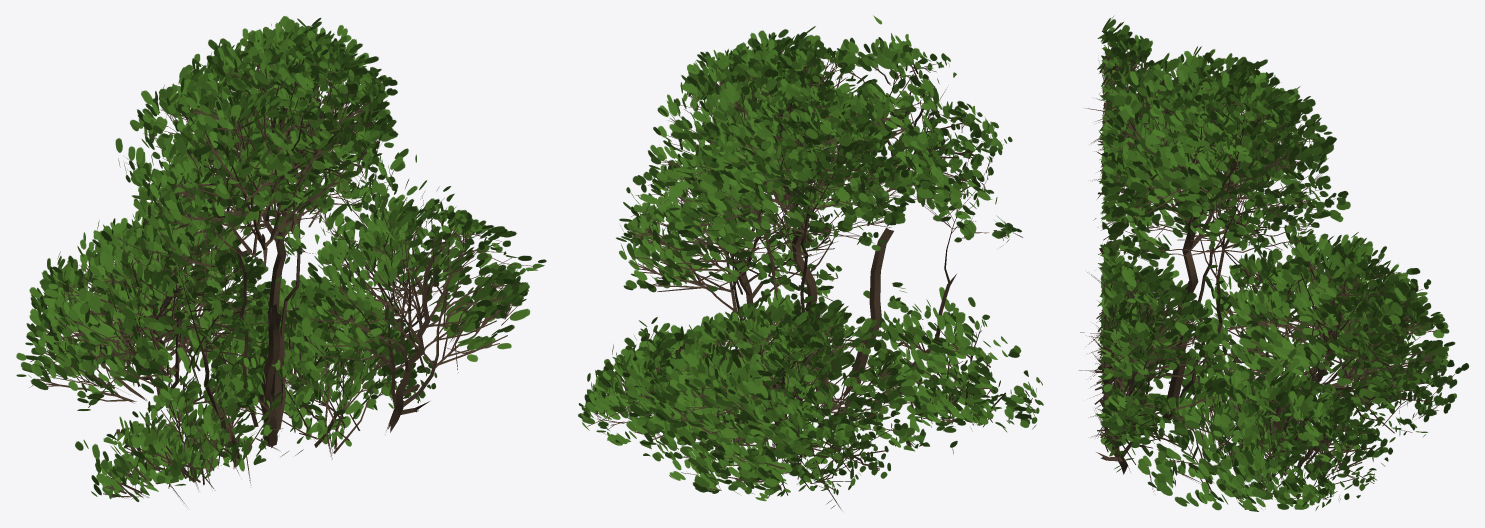
3 renders of one model, left to right at view 1: azimuth 30°, elevation 25°; view 2: azimuth 150°, elevation 25°; view 3: azimuth 270°, elevation 25°, orthographic. The views are drawn at different scales.
Visible parts, largest first — view 1: oak 01.001_trunk_Mat.001_0.221; view 2: oak 01.001_trunk_Mat.001_0.221; view 3: oak 01.001_trunk_Mat.001_0.221.
Boxes of the visible parts, box(x1,y1,x2,y2) form: oak 01.001_trunk_Mat.001_0.221: box(16, 16, 546, 505); oak 01.001_trunk_Mat.001_0.221: box(578, 15, 1043, 509); oak 01.001_trunk_Mat.001_0.221: box(1079, 16, 1468, 511).
Bounding box in the file's own units: 5.83 × 5.1 × 4.55.
2 materials, 1 textured.
